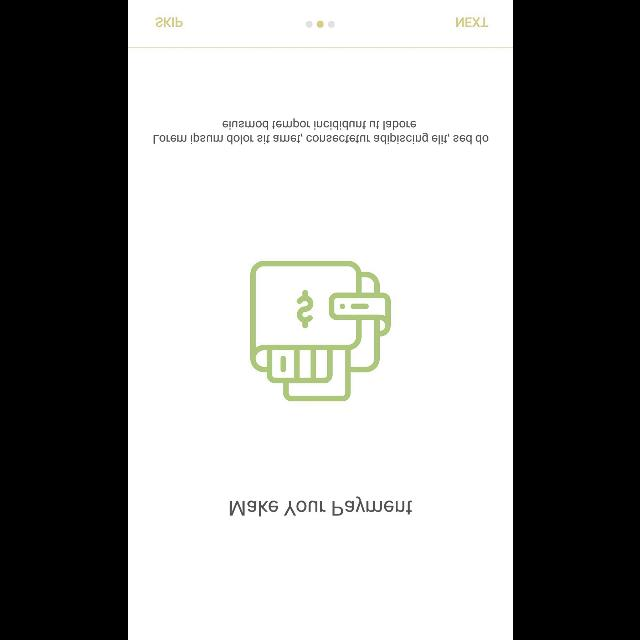image: (250, 261, 390, 401)
pageindicator: (304, 20, 334, 28)
text: (152, 118, 488, 144), (229, 496, 411, 516), (455, 17, 487, 27), (154, 17, 182, 27)
